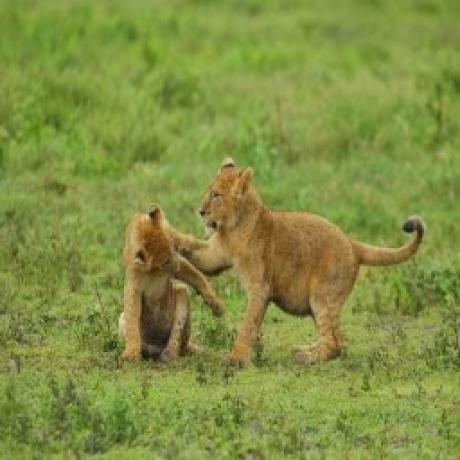Lion: (197, 152, 427, 367), (113, 198, 216, 361)
